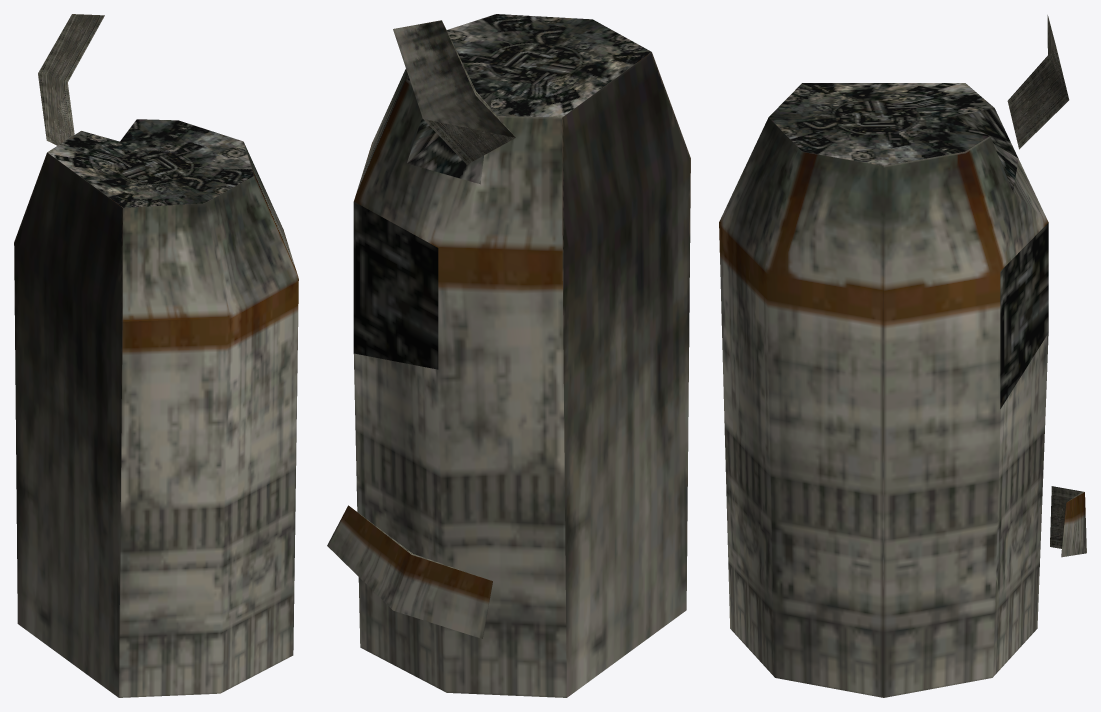
Rendered from thm_tato_lucky_despot_debris_lg_engine_s02_l3.fbx.
The picture shows the model from 3 angles, left to right: view 1: azimuth 30°, elevation 25°; view 2: azimuth 150°, elevation 25°; view 3: azimuth 270°, elevation 25°; orthographic projection. The views are drawn at different scales.
Parts seen in each view (by area): view 1: mesh_node; view 2: mesh_node; view 3: mesh_node.
Part boxes in pixels (<box>): mesh_node: <box>14,14,298,697</box>; mesh_node: <box>327,14,690,697</box>; mesh_node: <box>719,15,1086,697</box>.
Size of the model in its own units: 18.42 by 46.77 by 25.39.
1 material, 1 textured.
